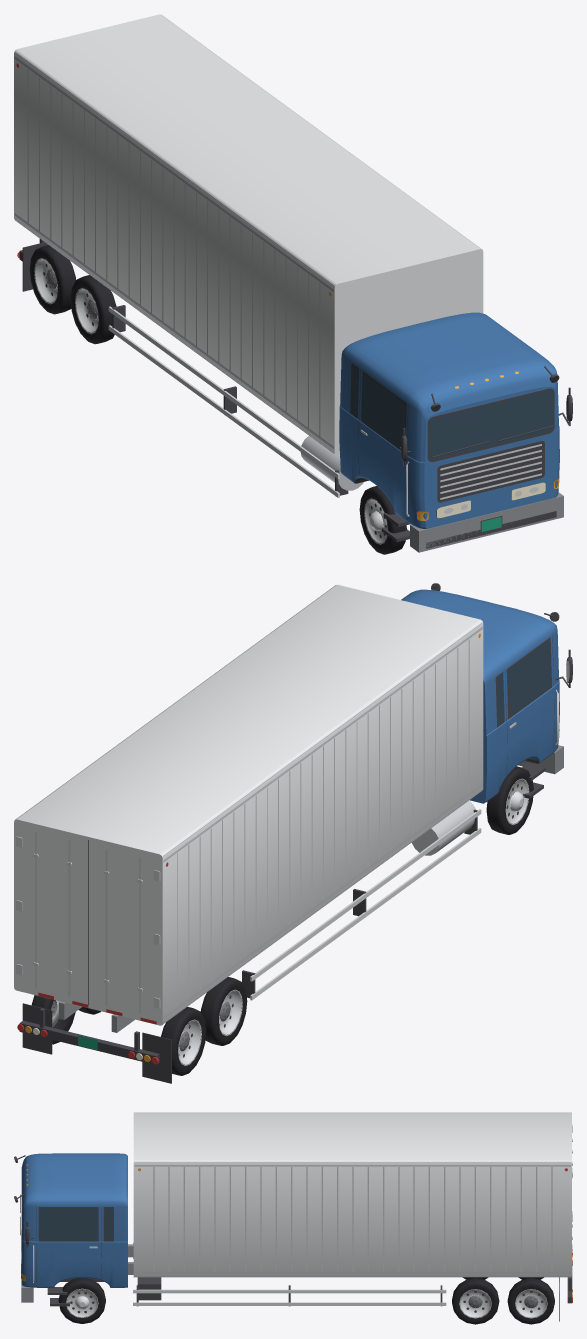
The model's file is 1_close.fbx.
3 views of the same model, one above another, from view 1: azimuth 30°, elevation 25°; view 2: azimuth 150°, elevation 25°; view 3: azimuth 270°, elevation 25° (orthographic). The views are drawn at different scales.
Visible parts, largest first — view 1: 11_1_close; view 2: 11_1_close; view 3: 11_1_close.
Boxes of the visible parts, left/top/right/bottom form: 11_1_close: left=14, top=14, right=572, bottom=554; 11_1_close: left=14, top=583, right=572, bottom=1083; 11_1_close: left=14, top=1112, right=572, bottom=1324.
Size of the model in its own units: 2.84 by 3.85 by 11.83.
